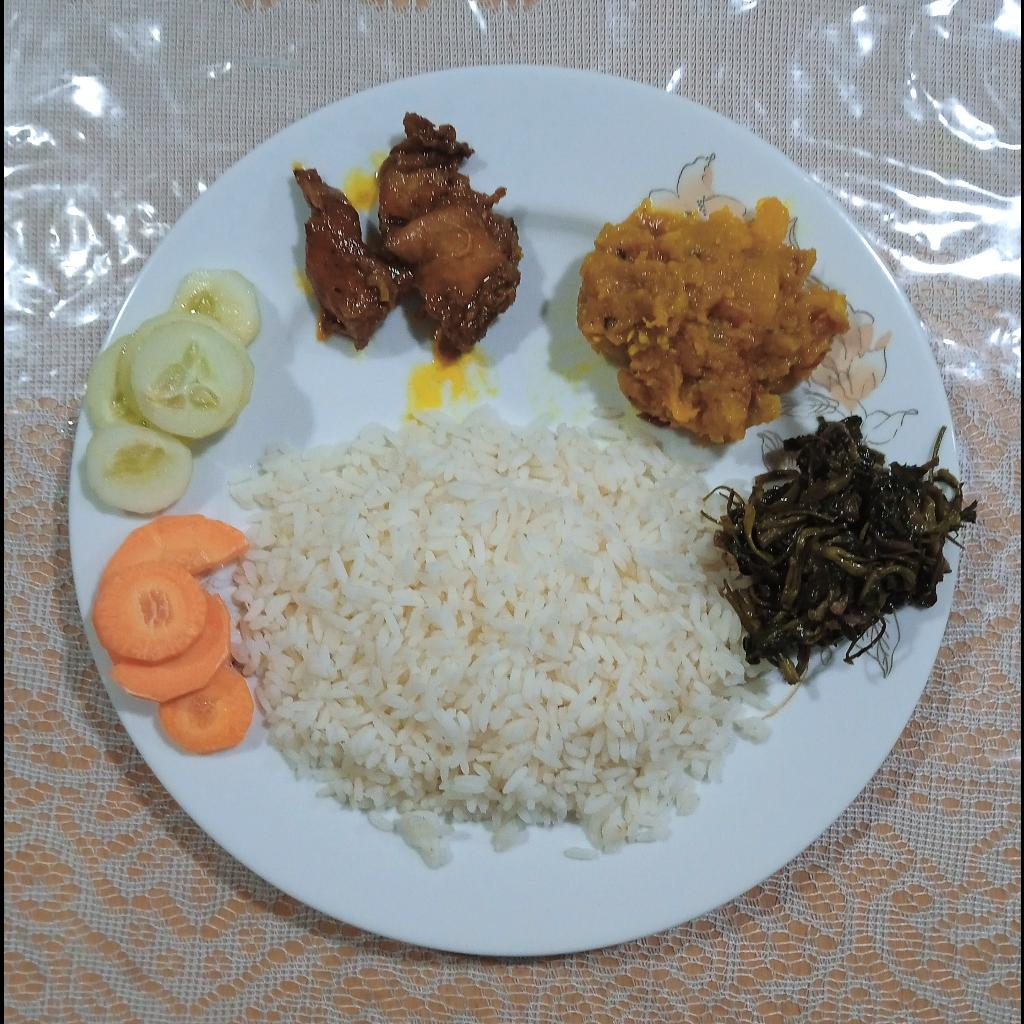carrot: (92, 515, 256, 756)
chicken: (290, 111, 522, 356)
cucumber: (81, 269, 261, 515)
kumra-vaji: (574, 199, 848, 450)
rice: (229, 412, 770, 870)
shak: (713, 417, 980, 690)
